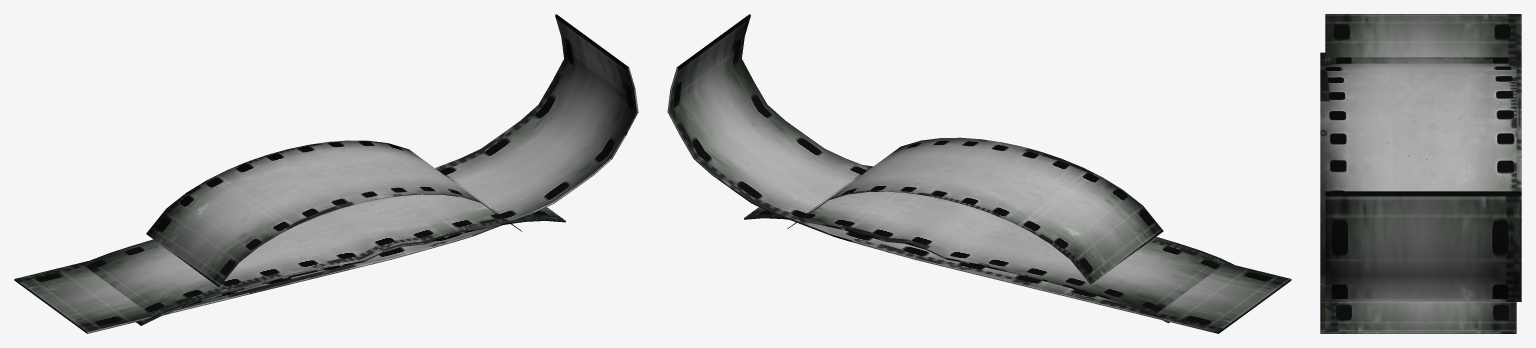
The model's file is fragments.fbx.
3 views of the same model, side by side, from view 1: azimuth 30°, elevation 25°; view 2: azimuth 150°, elevation 25°; view 3: azimuth 270°, elevation 25° (orthographic). The views are drawn at different scales.
Visible parts, largest first — view 1: fragment3, fragment1, fragment2; view 2: fragment3, fragment1, fragment2; view 3: fragment3, fragment1, fragment2.
Boxes of the visible parts, <box> form: fragment3: <box>14,14,638,333</box>; fragment1: <box>146,140,522,286</box>; fragment2: <box>82,169,565,325</box>; fragment3: <box>667,14,1291,333</box>; fragment1: <box>787,137,1163,284</box>; fragment2: <box>744,165,1233,323</box>; fragment3: <box>1325,14,1521,301</box>; fragment1: <box>1320,63,1516,278</box>; fragment2: <box>1320,52,1516,333</box>.
Bounding box in the file's own units: 341 × 81.42 × 80.04.
